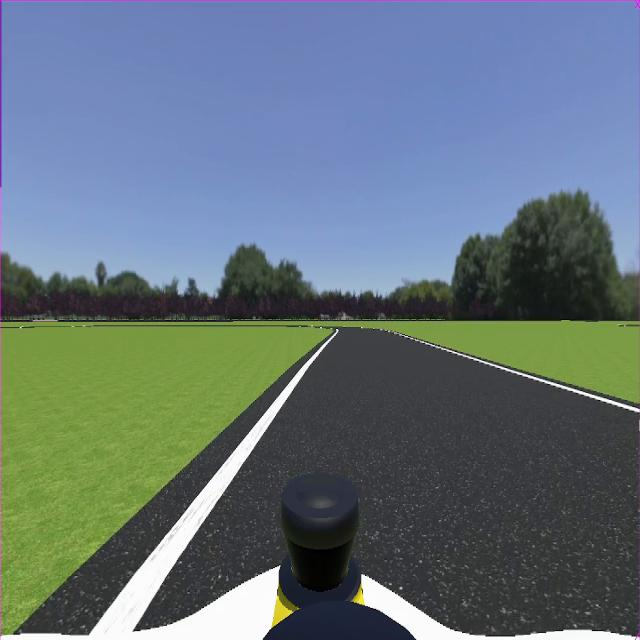road: (140, 331, 640, 635)
solid_line: (90, 332, 336, 634), (391, 332, 639, 414)
